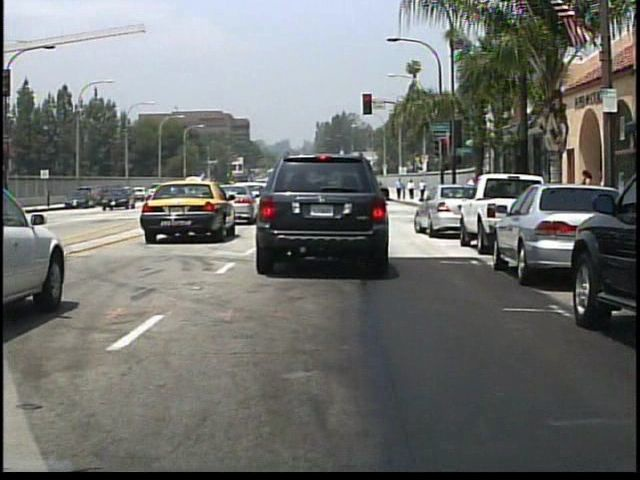person: (577, 166, 597, 223), (463, 172, 483, 220), (419, 179, 428, 203), (397, 177, 405, 199), (408, 179, 416, 201)
